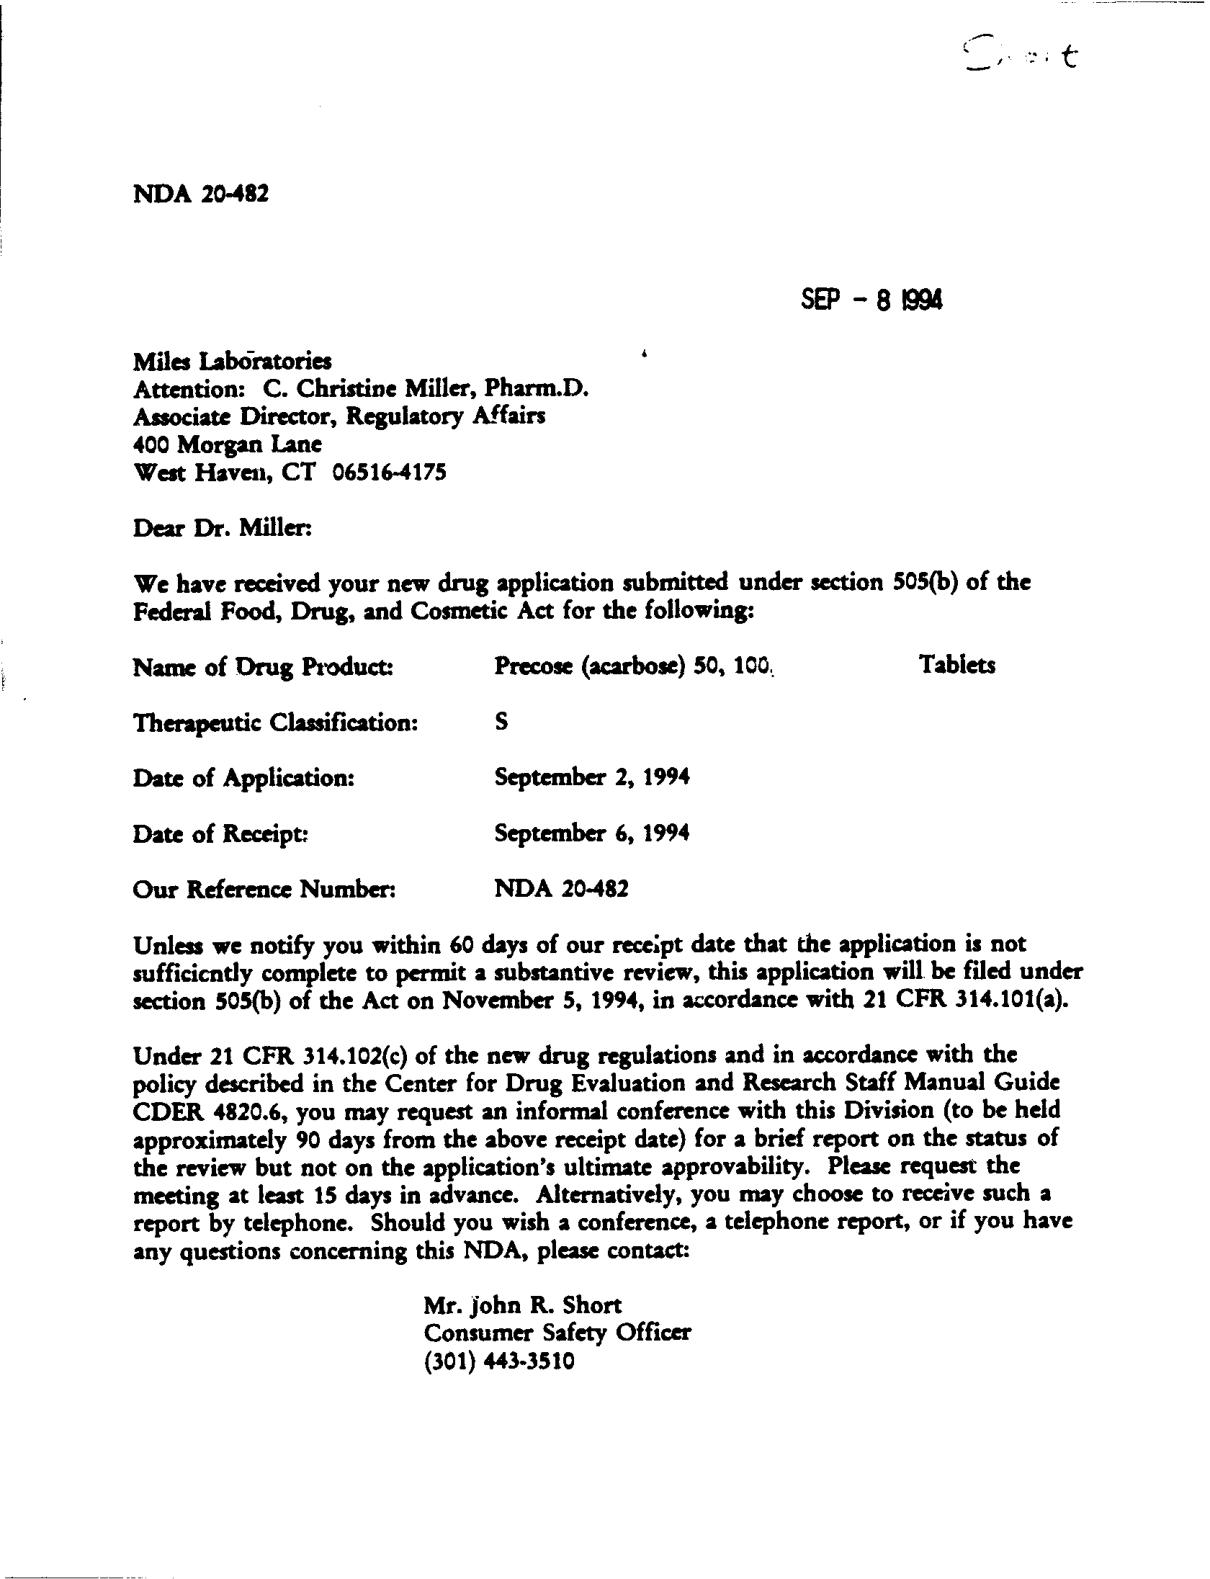nolines: (131, 655, 998, 901)
